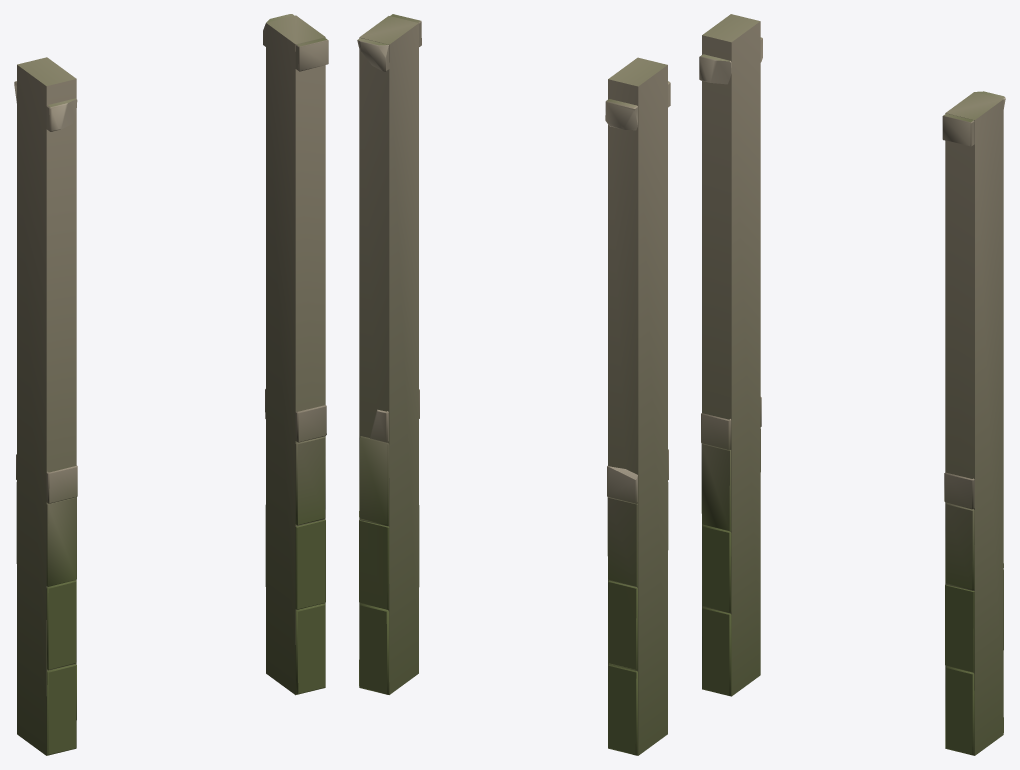
Rendered from sanctuary_slot_open.glb.
3 renders of one model, left to right at view 1: azimuth 30°, elevation 25°; view 2: azimuth 150°, elevation 25°; view 3: azimuth 330°, elevation 25°, orthographic. The views are drawn at different scales.
Parts seen in each view (by area): view 1: sanctuary_slot_open_far, sanctuary_slot_open; view 2: sanctuary_slot_open_far, sanctuary_slot_open; view 3: sanctuary_slot_open_far, sanctuary_slot_open.
Part boxes in pixels (bbox=[...]): sanctuary_slot_open_far: bbox=[17, 15, 325, 755]; sanctuary_slot_open: bbox=[14, 14, 328, 755]; sanctuary_slot_open_far: bbox=[359, 16, 667, 755]; sanctuary_slot_open: bbox=[357, 14, 670, 755]; sanctuary_slot_open_far: bbox=[702, 14, 1003, 755]; sanctuary_slot_open: bbox=[699, 37, 1005, 755].
Bounding box in the file's own units: 18.5 × 42.4 × 4.21.
